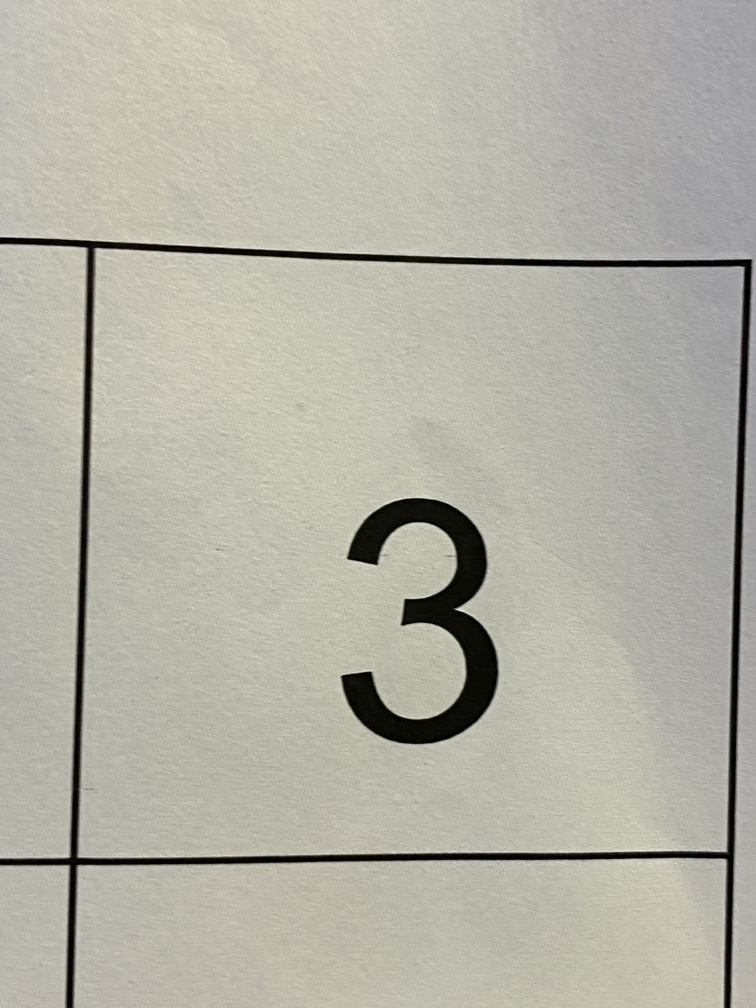three: (282, 448, 556, 809)
